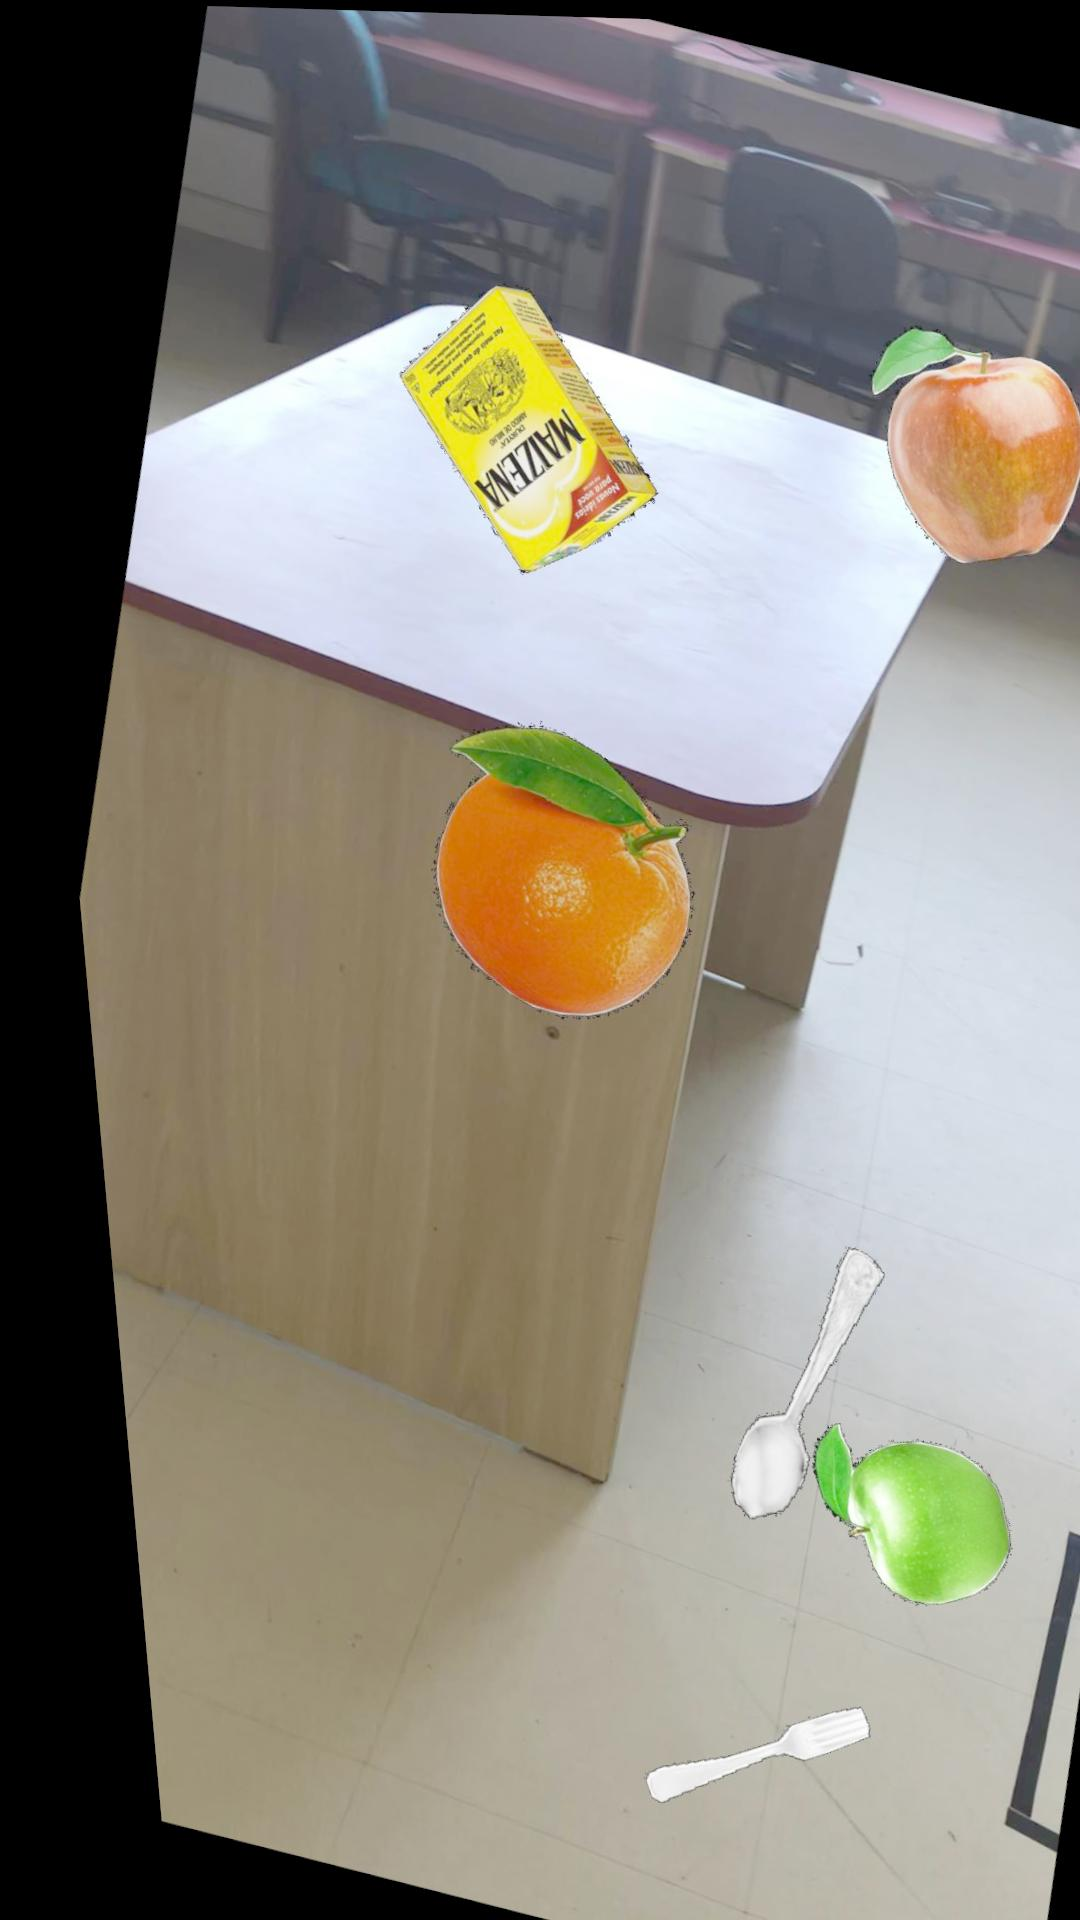apple: (864, 318, 1080, 556)
fork: (613, 1701, 839, 1799)
green apple: (786, 1418, 984, 1598)
orange: (419, 721, 678, 1014)
spoon: (704, 1241, 862, 1514)
